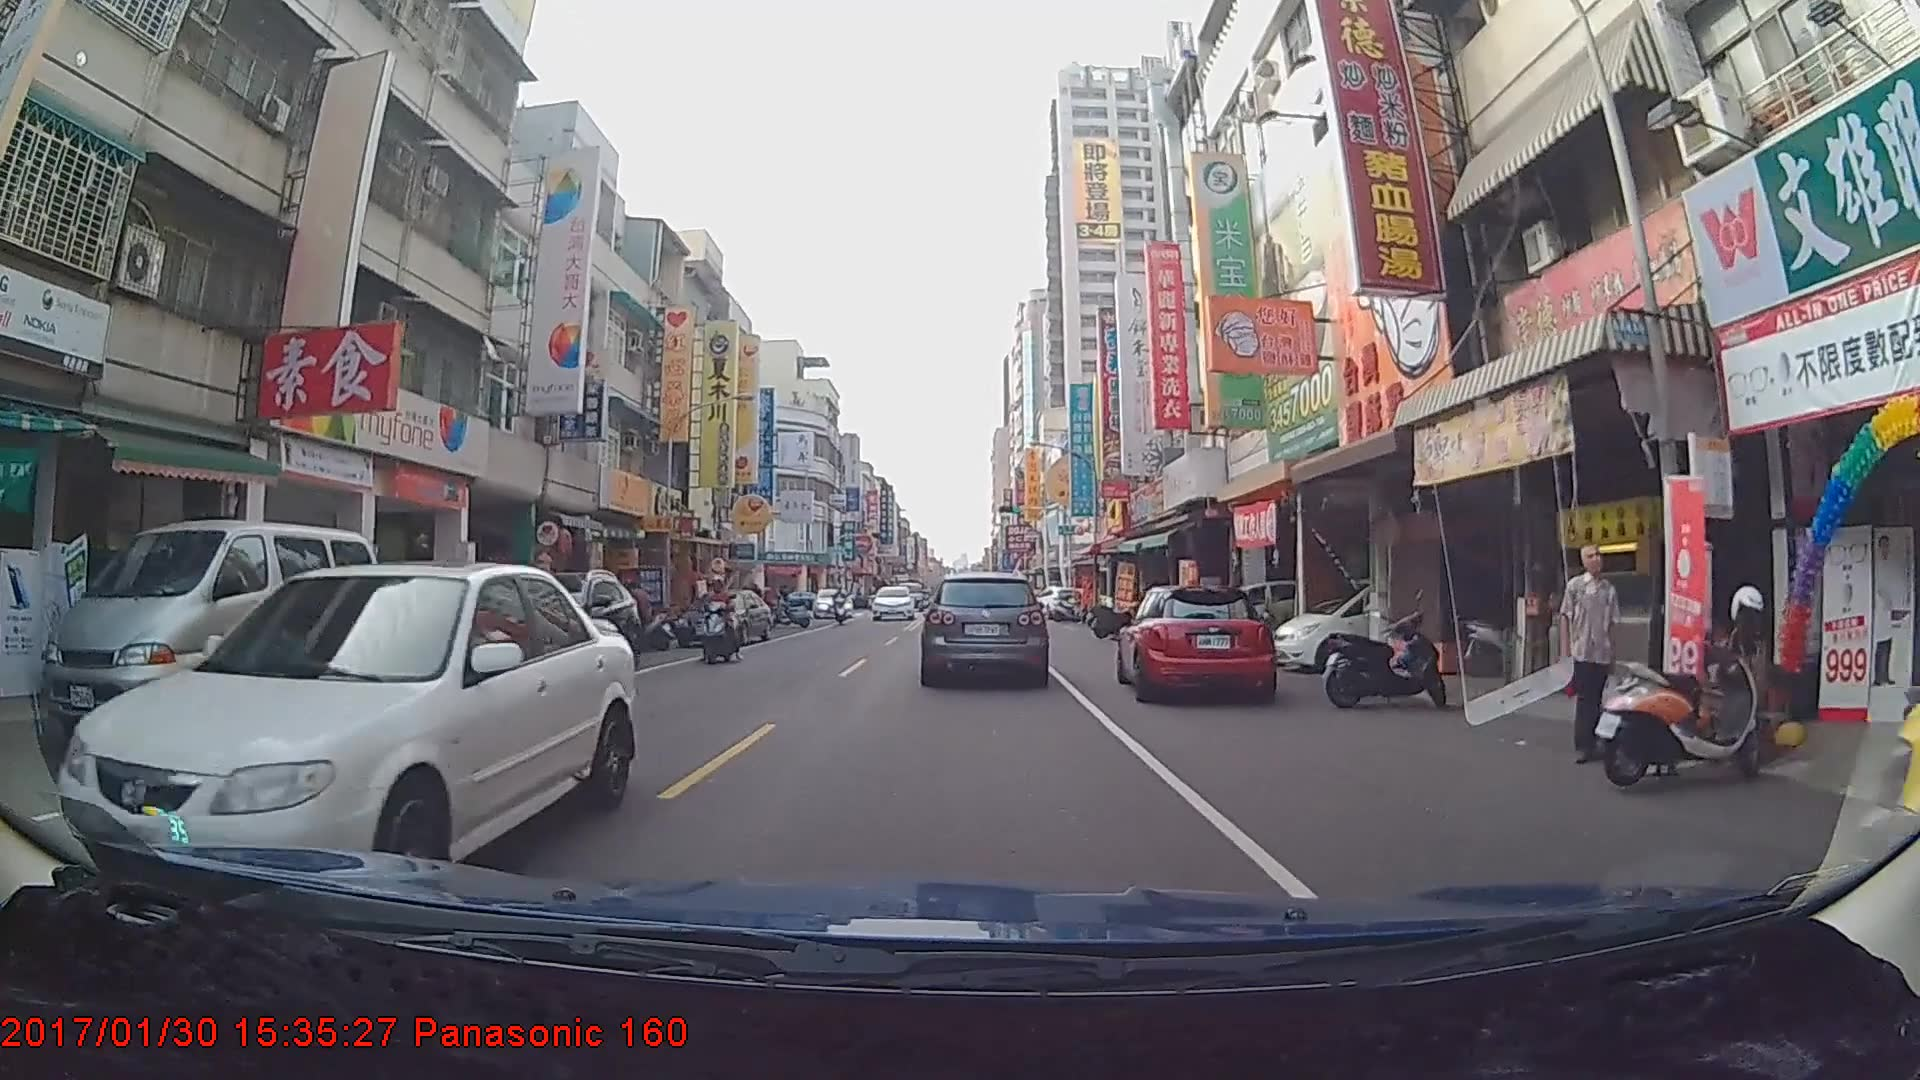pedestrian: (1560, 539, 1627, 768)
rider: (701, 576, 745, 661)
vehicle: (63, 560, 632, 918), (38, 517, 384, 758), (461, 570, 640, 687), (1118, 581, 1278, 702), (924, 569, 1047, 683), (674, 590, 772, 649), (868, 581, 914, 618), (811, 586, 852, 618)
